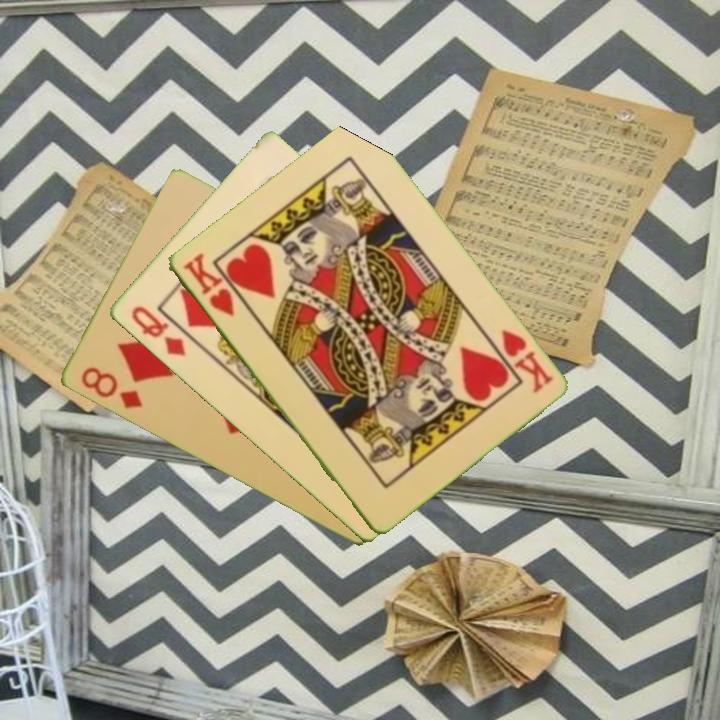8d: (77, 363, 145, 412)
Kh: (497, 325, 556, 397), (178, 249, 237, 319)
Qd: (127, 302, 188, 359)
